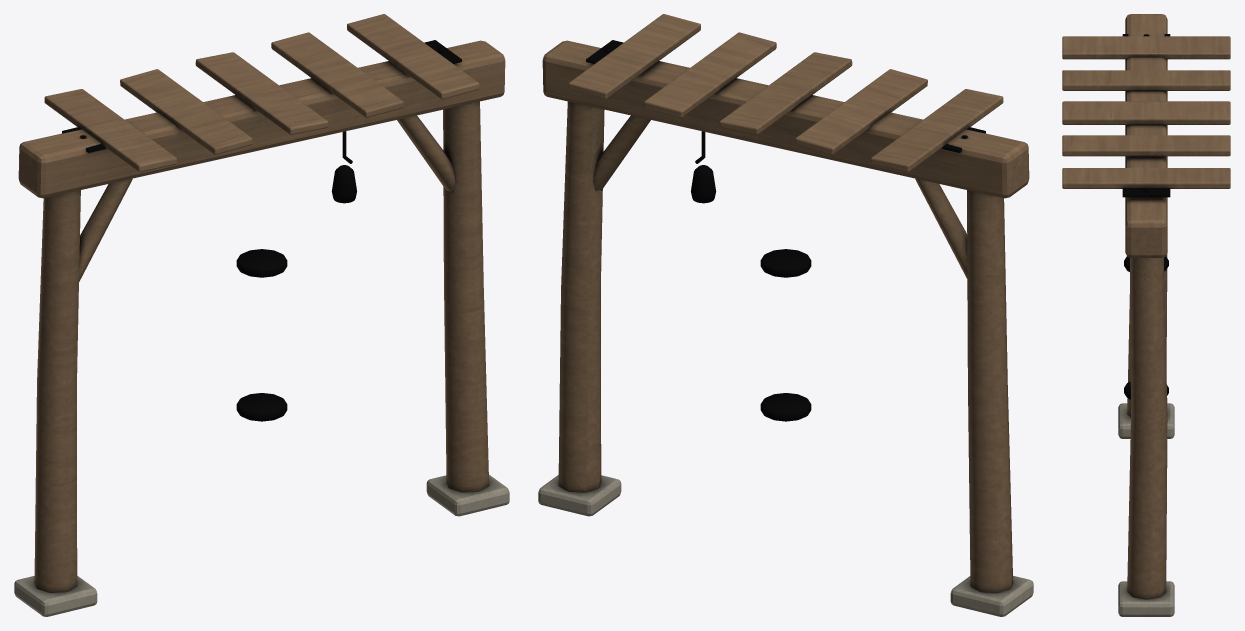
The model's file is dg_escora_mina.glb.
The picture shows the model from 3 angles, left to right: view 1: azimuth 30°, elevation 25°; view 2: azimuth 150°, elevation 25°; view 3: azimuth 270°, elevation 25°; orthographic projection. The views are drawn at different scales.
Visible parts, largest first — view 1: dg_escora_mina_tronco; view 2: dg_escora_mina_tronco; view 3: dg_escora_mina_tronco.
Boxes of the visible parts, <box> form: dg_escora_mina_tronco: <box>14,14,509,616</box>; dg_escora_mina_tronco: <box>538,14,1033,616</box>; dg_escora_mina_tronco: <box>1062,14,1230,616</box>.
Size of the model in its own units: 3.4 by 3.21 by 1.2.
Materials: 2 (1 with a texture image).
